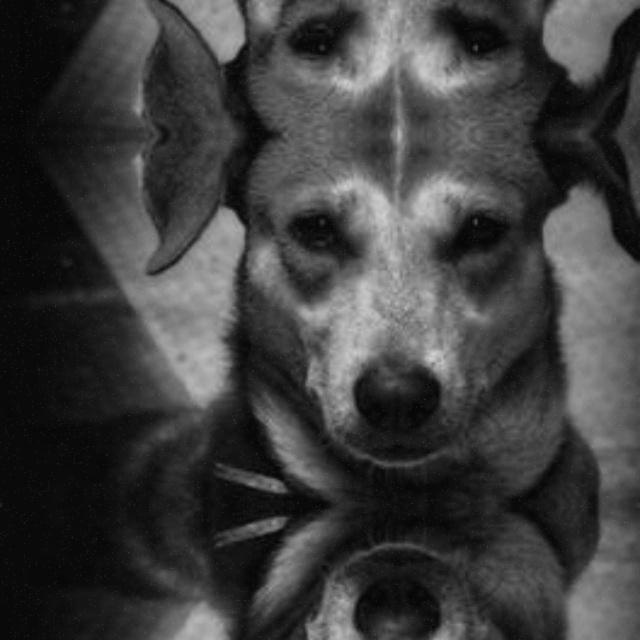dog: (132, 134, 602, 452), (132, 0, 602, 134), (132, 558, 602, 640)
